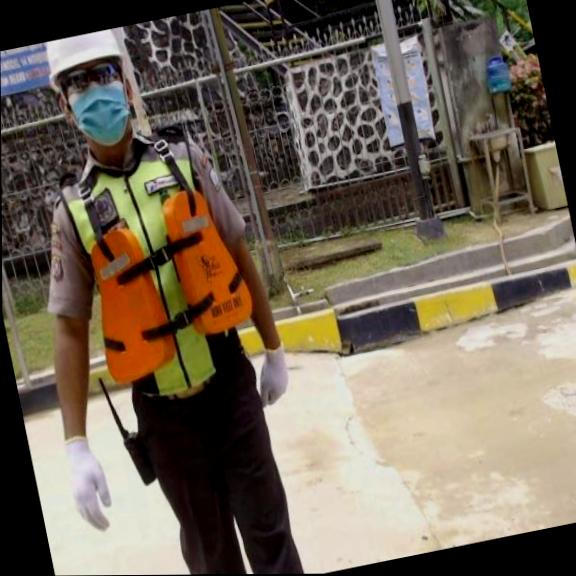safety_vest: (68, 175, 262, 388)
